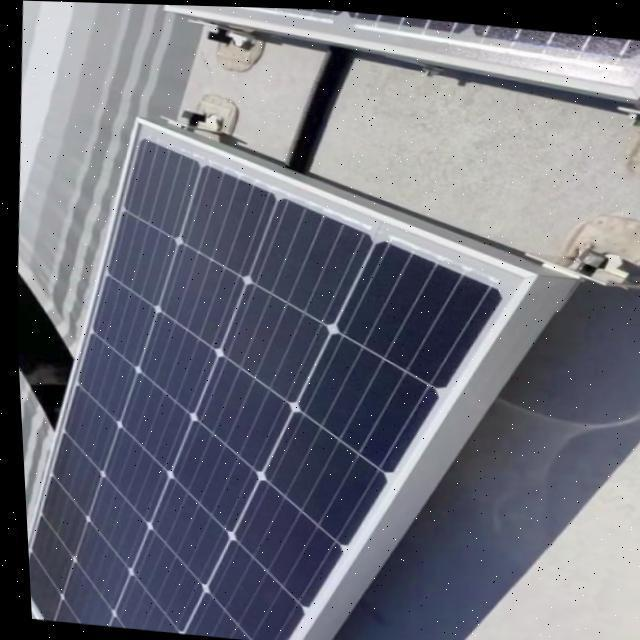Normal Solar Panel: (4, 104, 556, 640), (162, 4, 640, 92)
